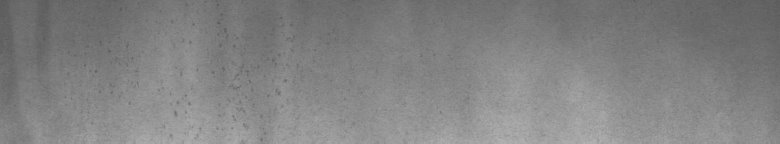ib: (174, 28, 295, 129)
